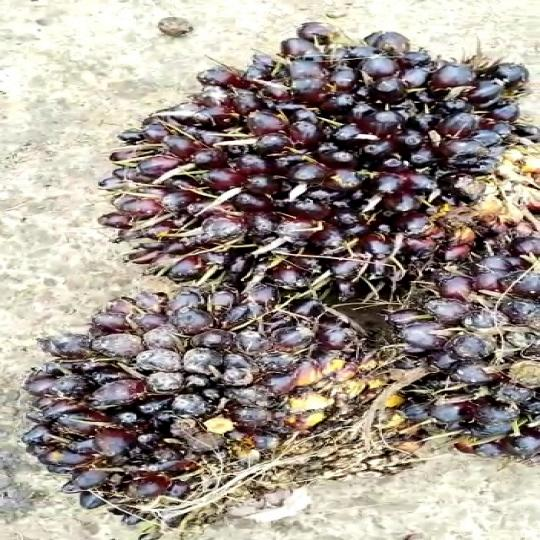mentah: (81, 7, 540, 294), (22, 282, 424, 532)
